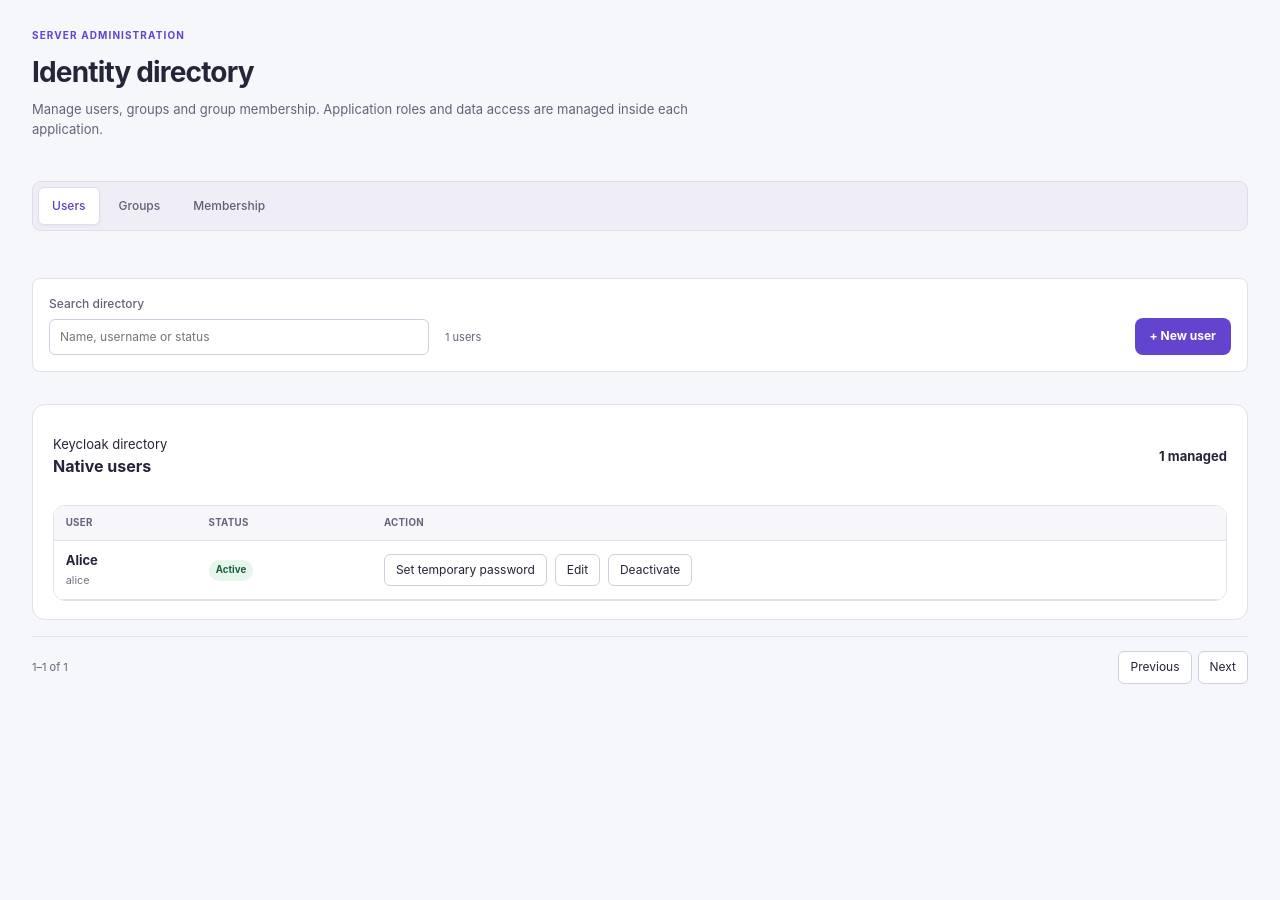
Test: shows current Keycloak users, groups and fixed-core memberships
expect the text "Alice" is shown: met, box [66, 552, 98, 568]
expect the text "Finance" is not shown: met
Click the button "Groups".
click(139, 206)  # box [104, 187, 174, 225]
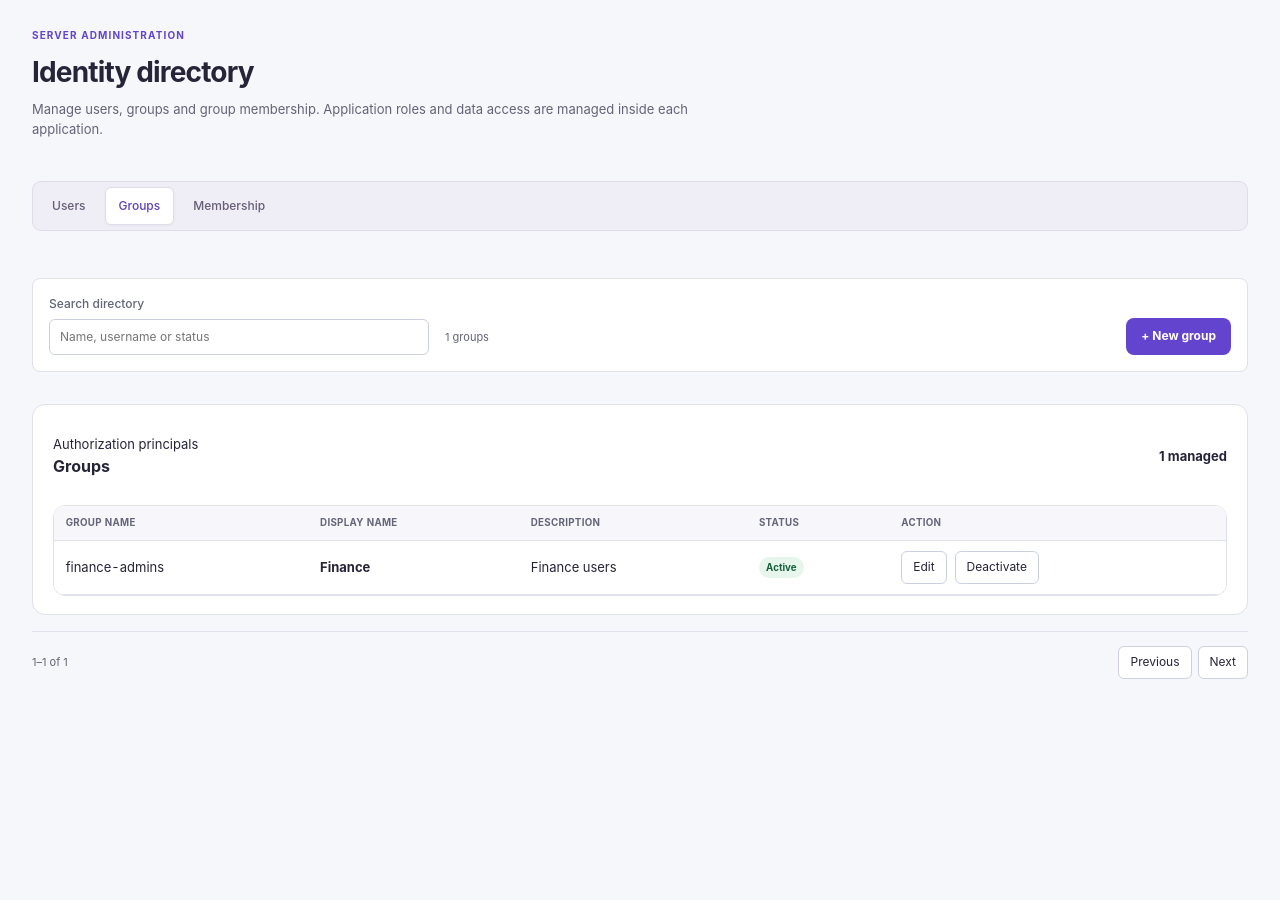
expect the text "Finance" is shown: met, box [320, 559, 370, 575]
expect the text "Alice" is gone: met
Click the button "Membership".
click(229, 206)  # box [179, 187, 279, 225]
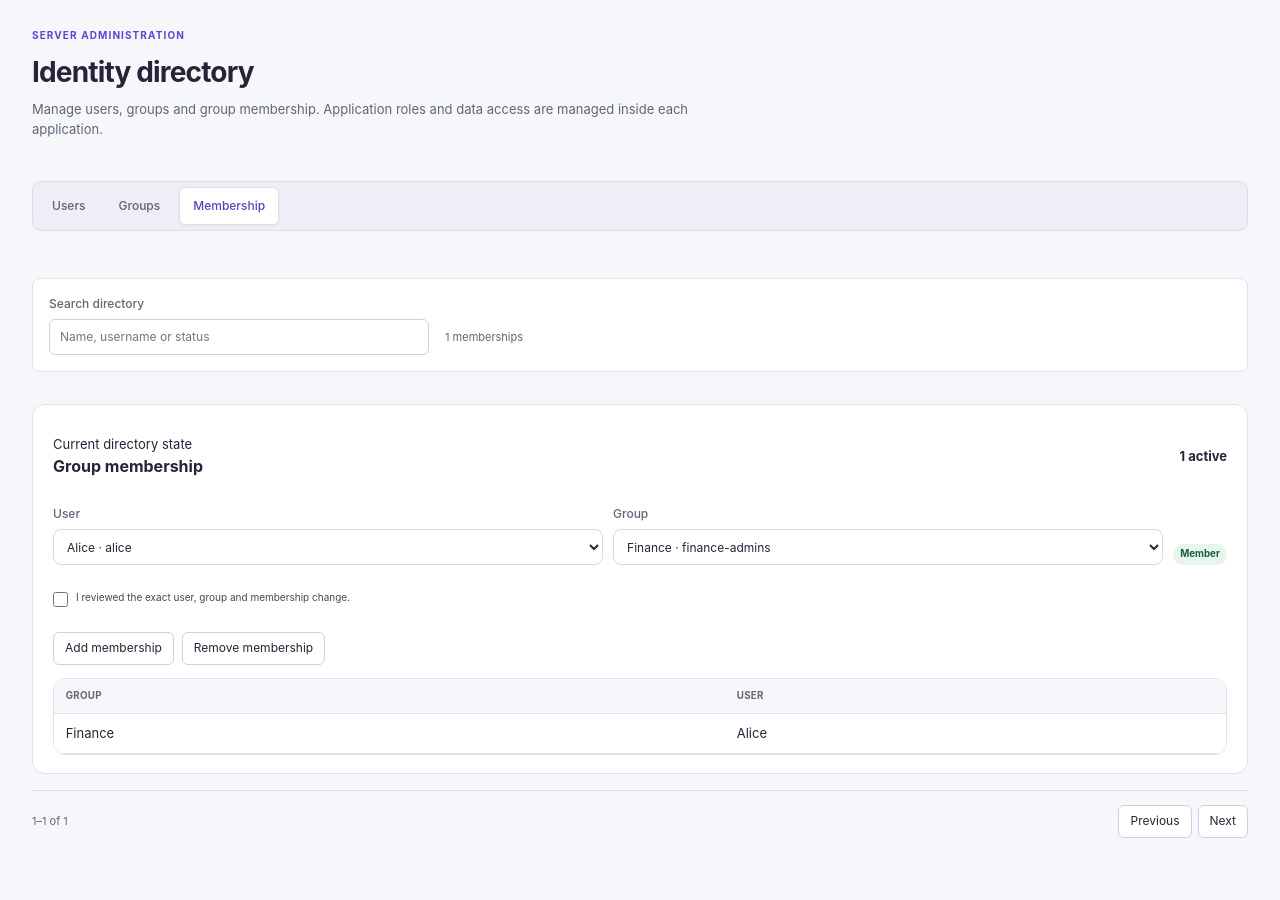
expect the text "Member" is shown: met, box [1173, 544, 1227, 565]
expect the text "Alice" is shown: met, box [725, 714, 1226, 754]
